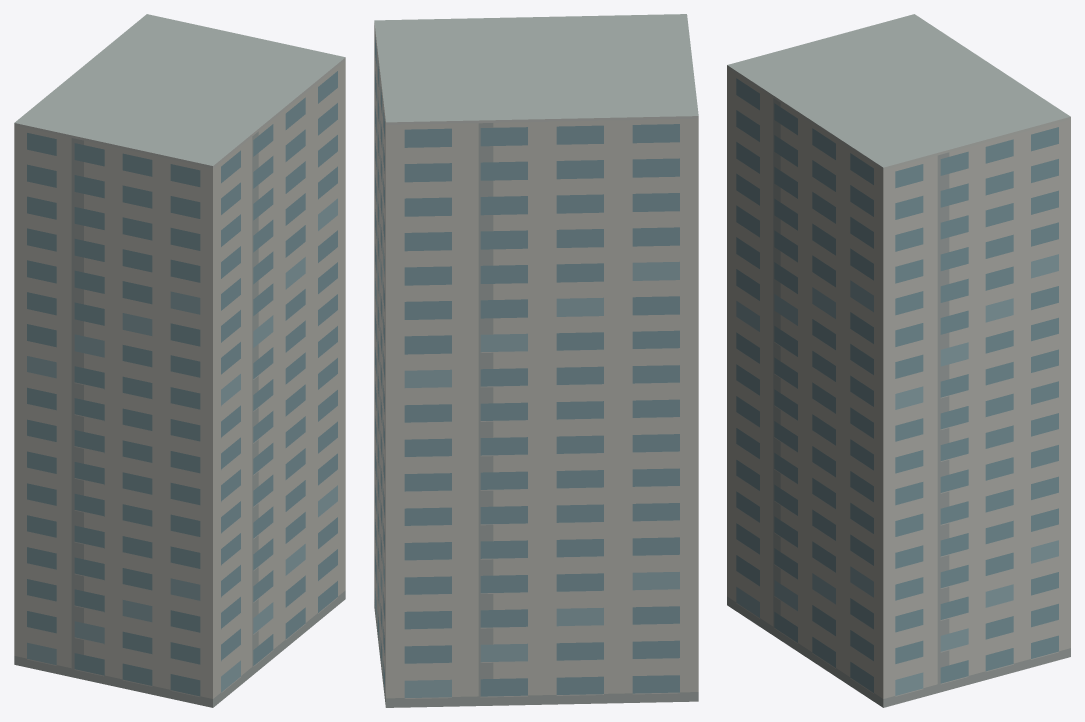
The model's file is residential-d71ede92-bd74-4354-8322-d0837c9e5cf8.glb.
3 views of the same model, side by side, from view 1: azimuth 30°, elevation 25°; view 2: azimuth 150°, elevation 25°; view 3: azimuth 270°, elevation 25° (orthographic). The views are drawn at different scales.
Visible parts, largest first — view 1: residential-d71ede92-bd74-4354-8322-d0837c9e5cf8.tmp; view 2: residential-d71ede92-bd74-4354-8322-d0837c9e5cf8.tmp; view 3: residential-d71ede92-bd74-4354-8322-d0837c9e5cf8.tmp.
Boxes of the visible parts, x1,y1,x2,y2 form: residential-d71ede92-bd74-4354-8322-d0837c9e5cf8.tmp: (14,14,345,707); residential-d71ede92-bd74-4354-8322-d0837c9e5cf8.tmp: (374,14,698,707); residential-d71ede92-bd74-4354-8322-d0837c9e5cf8.tmp: (727,14,1070,707).
Size of the model in its own units: 31.74 by 52 by 30.
